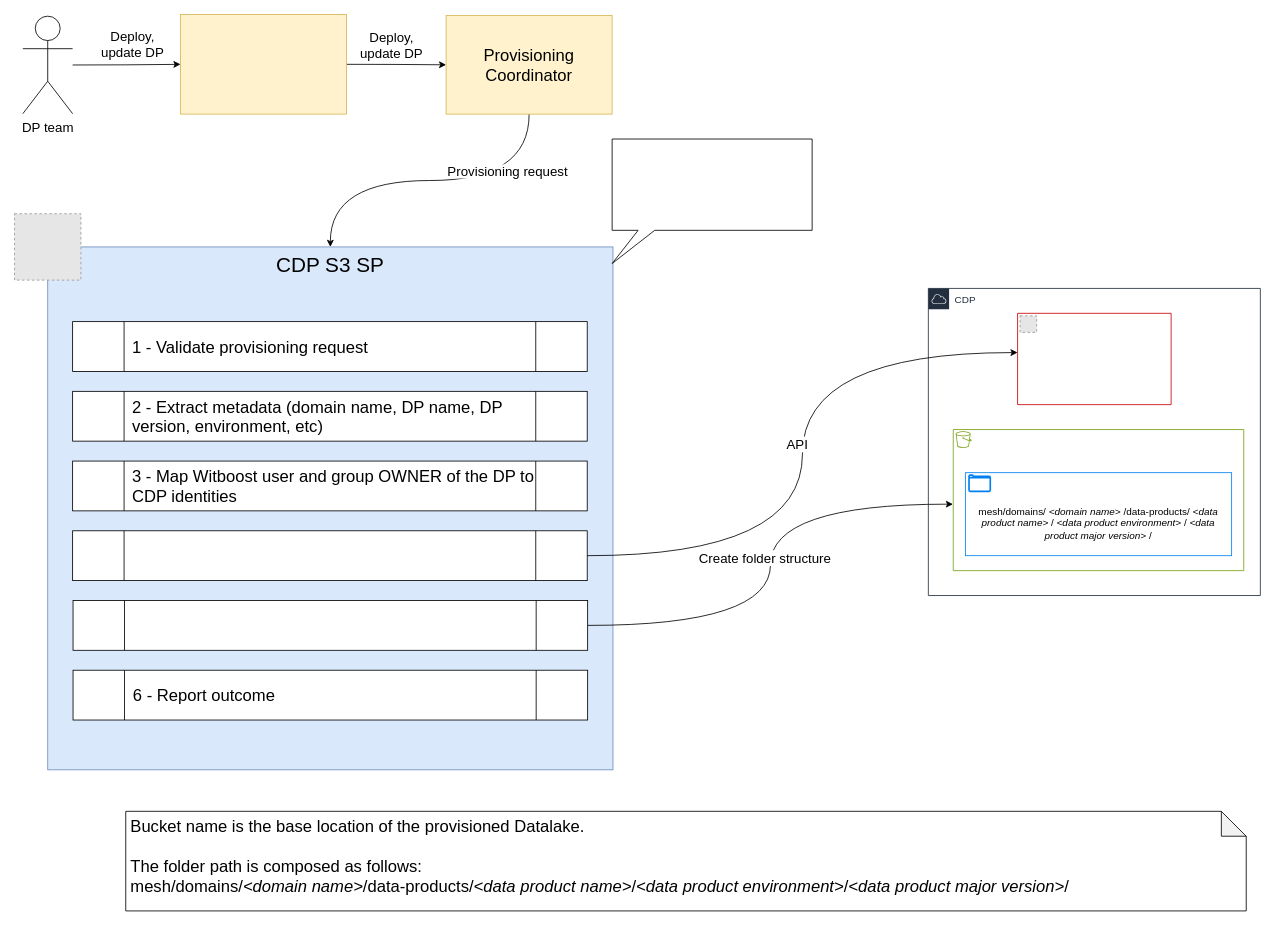
This 1275x925 diagram has some shape labels left out. Grey dashed boxes stand in for pictures. Each missing label, with the box of its shape:
4 - Create/Update security zone, roles and policies: (72, 530, 587, 581)
5 - Create folder (path is built using metadata above) in a bucket: (72, 600, 588, 650)
Idempotent, ie does not fail if something it provisions already exists.: (611, 138, 812, 264)
Ranger: (1017, 312, 1171, 405)
Witboost: (180, 14, 347, 114)
